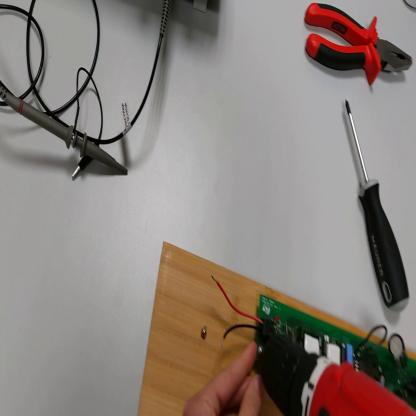electric screwdriver: (258, 332, 415, 414)
hand: (181, 341, 263, 414)
high voltage board: (211, 272, 416, 416)
oscilloscope: (181, 3, 221, 14)
oscilloscope probe tip: (2, 84, 130, 174)
pliers: (305, 1, 415, 86)
screwdriver-: (346, 97, 410, 313)
working area: (137, 240, 416, 415)
